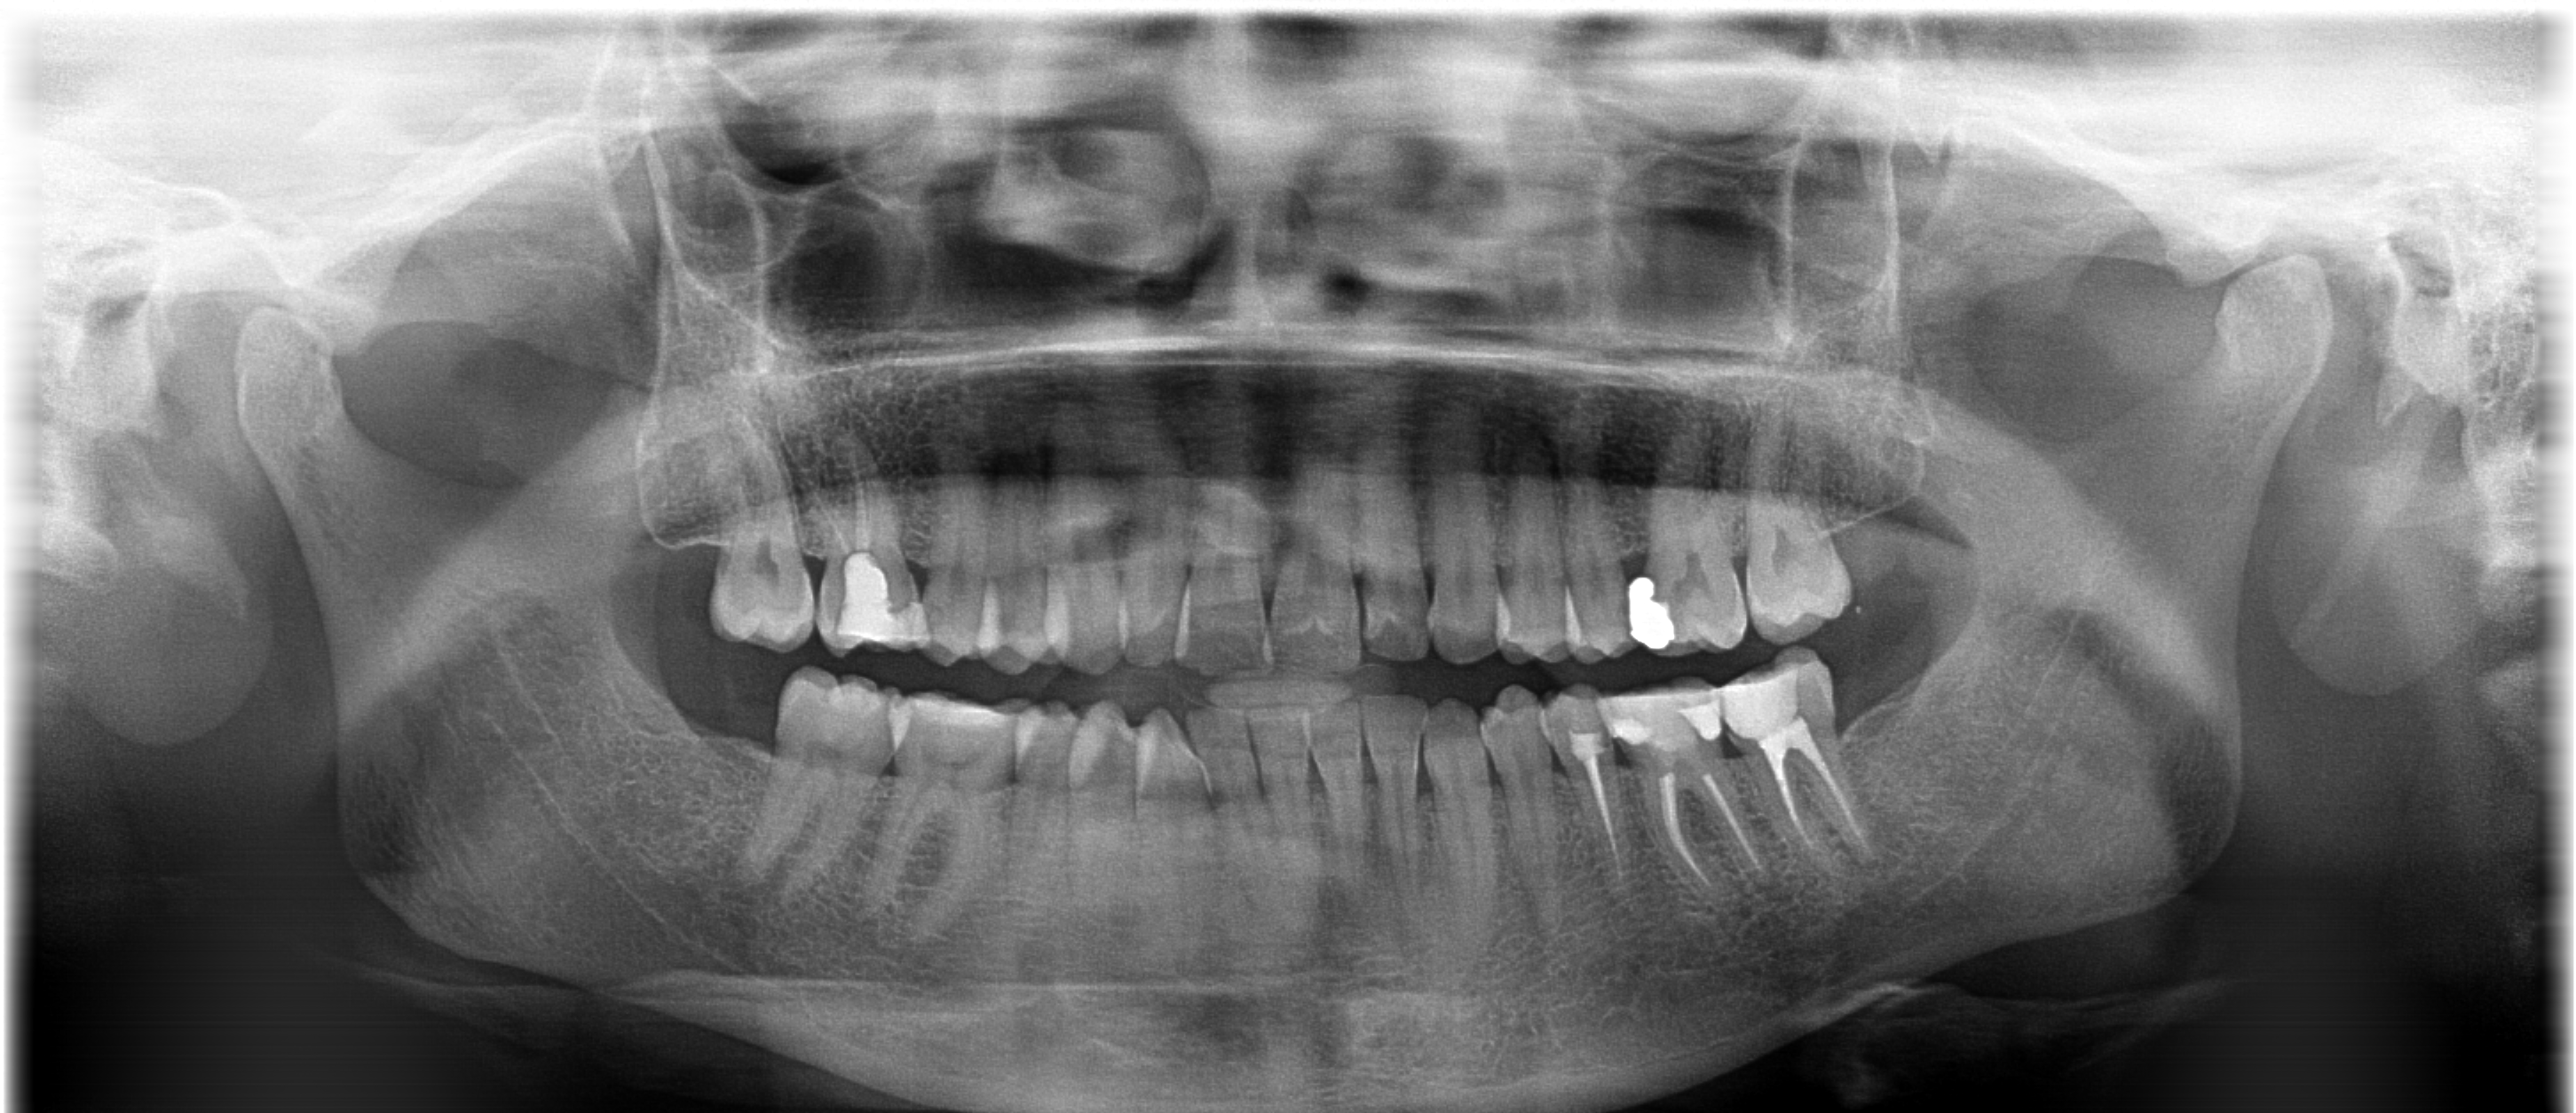tratamiento_conducto: (1695, 627, 1909, 896), (1590, 645, 1779, 911), (789, 407, 945, 685), (1525, 658, 1654, 932)
